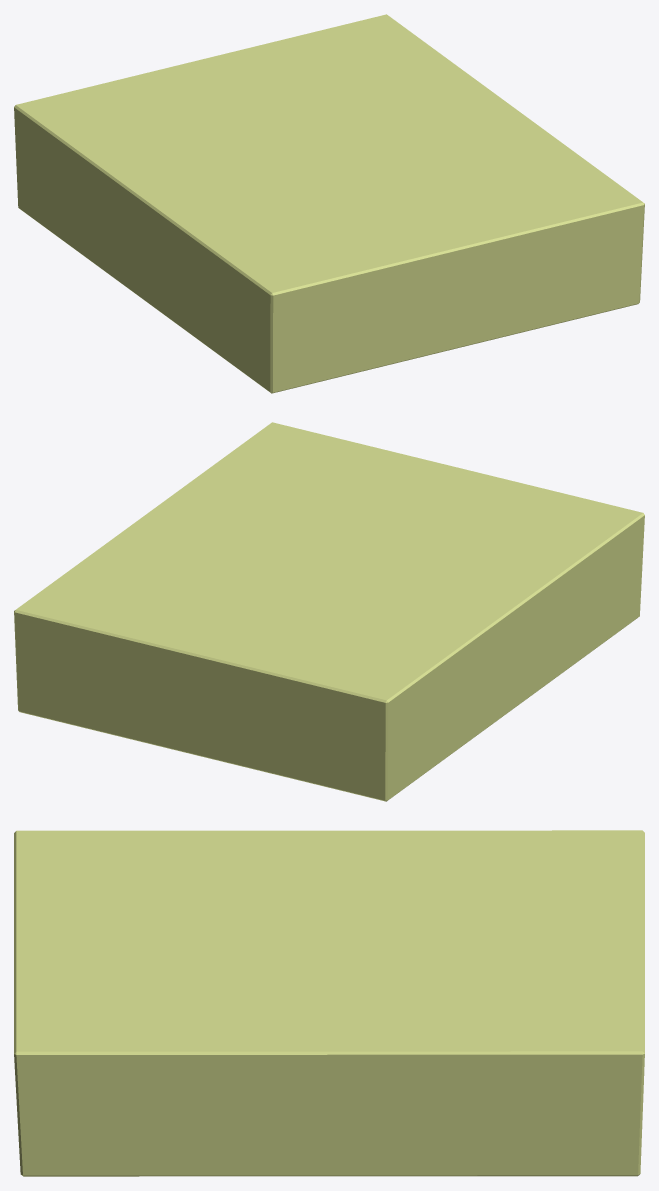
The model's file is file_box_1_cover.fbx.
3 renders of one model, top to bottom at view 1: azimuth 30°, elevation 25°; view 2: azimuth 150°, elevation 25°; view 3: azimuth 270°, elevation 25°, orthographic. The views are drawn at different scales.
Visible parts, largest first — view 1: file_box_1_cover; view 2: file_box_1_cover; view 3: file_box_1_cover.
Boxes of the visible parts, x1,y1,x2,y2 form: file_box_1_cover: (14,14,644,393); file_box_1_cover: (14,422,644,801); file_box_1_cover: (14,830,644,1176).
Size of the model in its own units: 0.2943 by 0.0778 by 0.3519.
